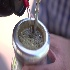guampa: (8, 1, 49, 69)
